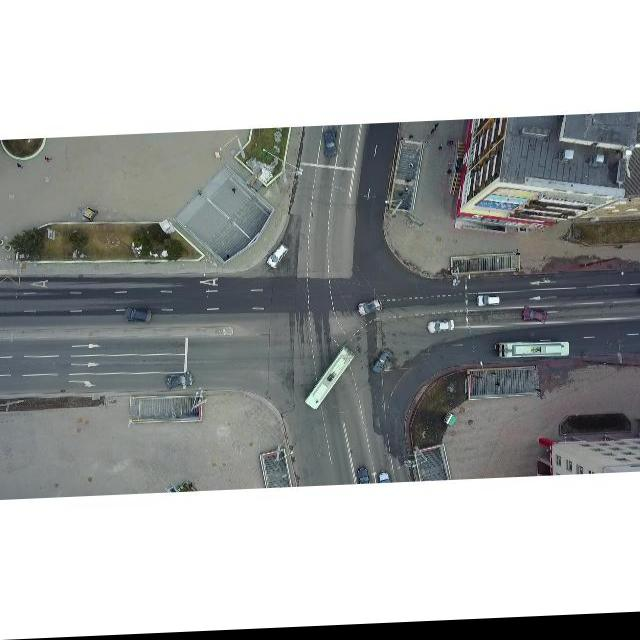vehicle: (369, 352, 395, 377), (267, 245, 289, 272), (322, 132, 340, 161), (357, 302, 383, 320), (124, 309, 152, 325), (166, 375, 194, 391), (427, 323, 455, 338), (522, 313, 548, 328), (476, 299, 500, 311)
